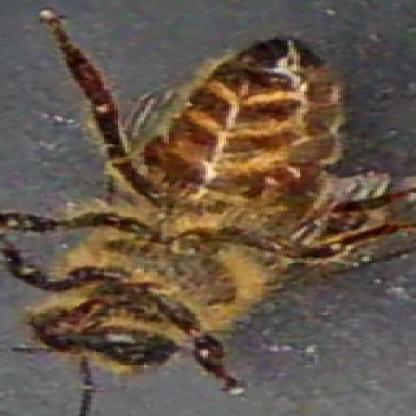bee: (34, 40, 374, 364)
vaoora: (275, 159, 312, 190)
